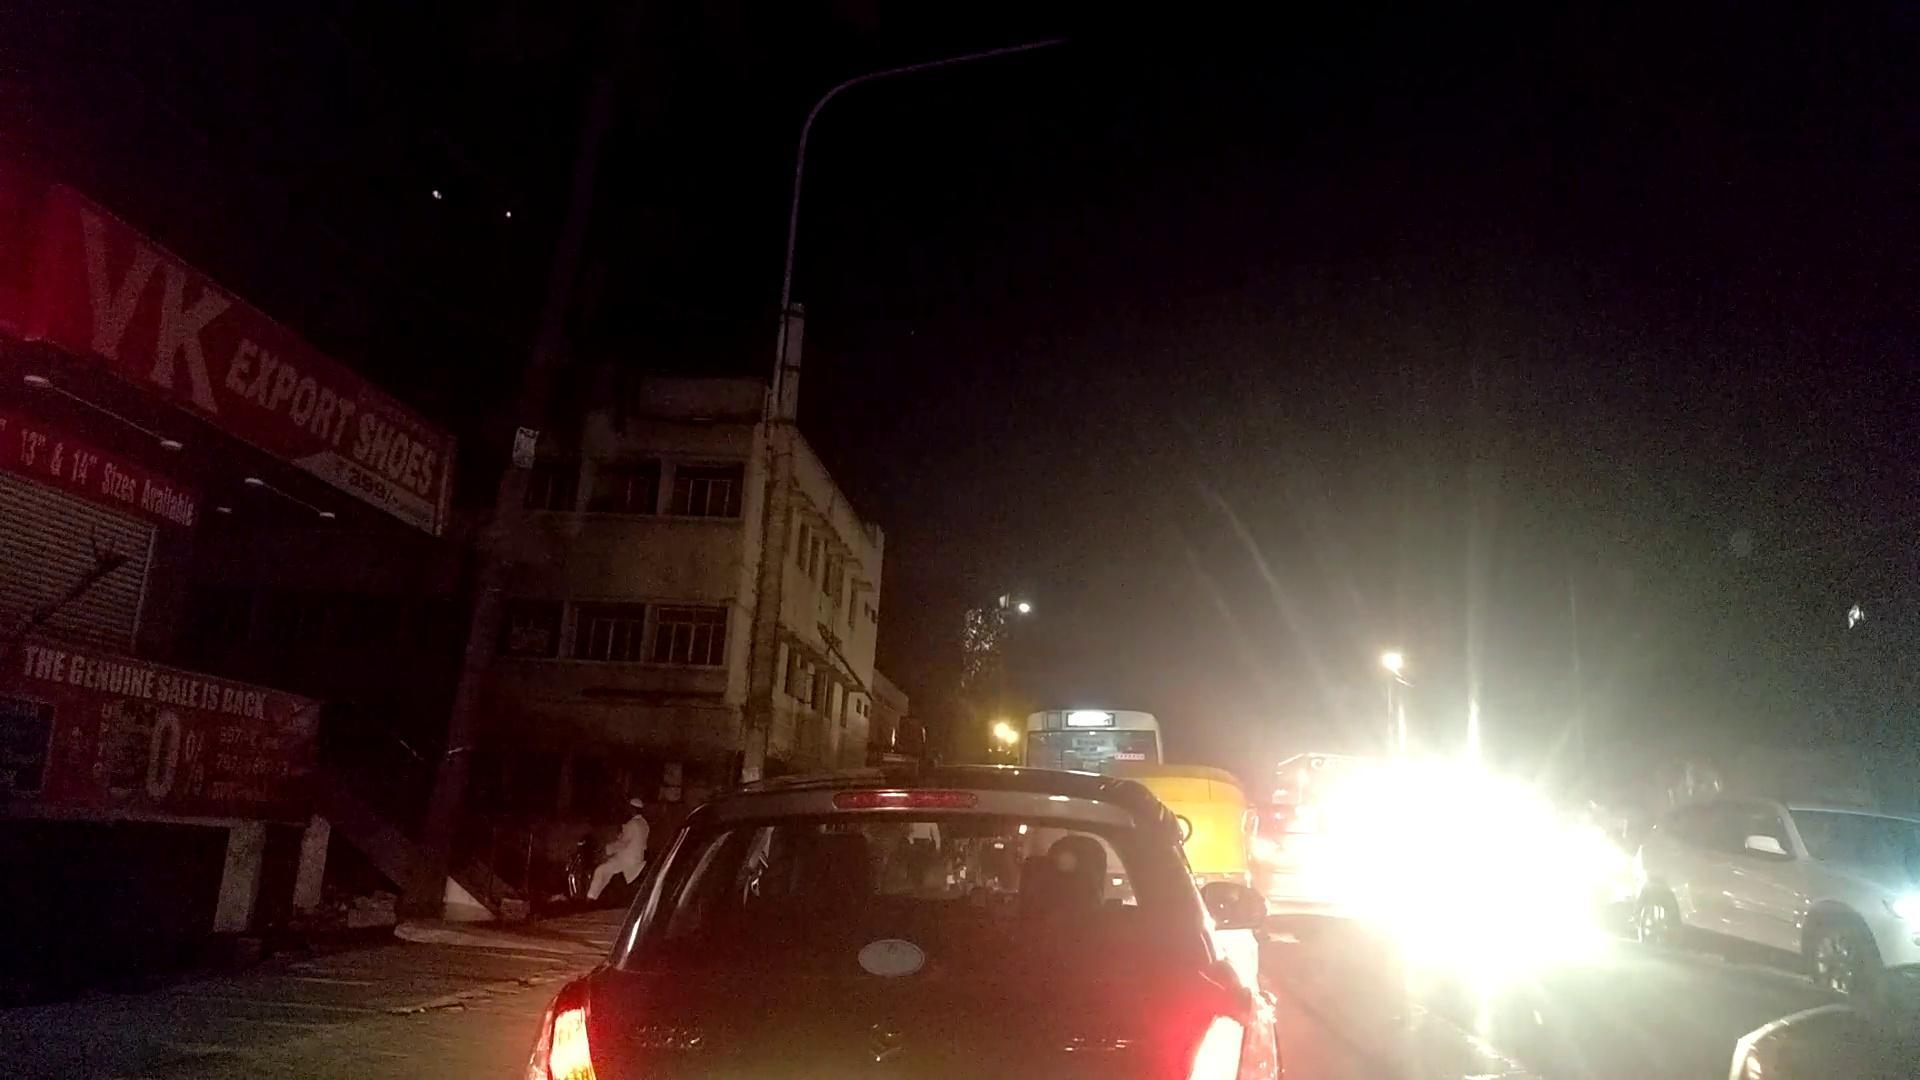on: (1309, 492, 1710, 1080)
